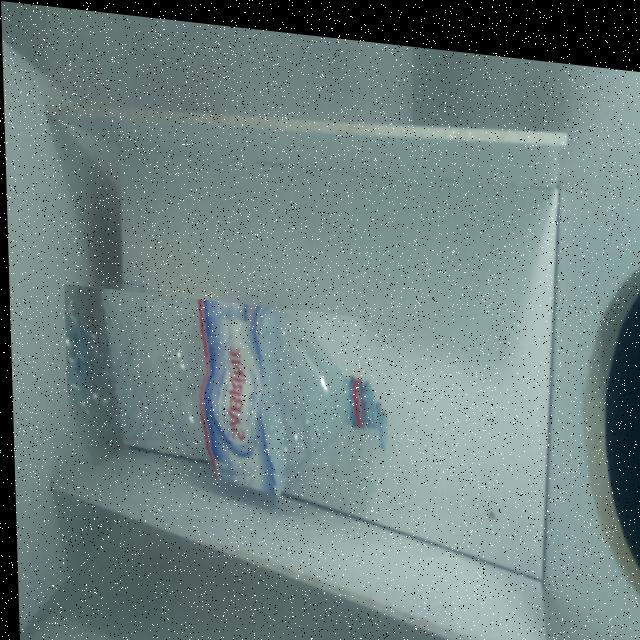litter: (61, 281, 383, 493)
